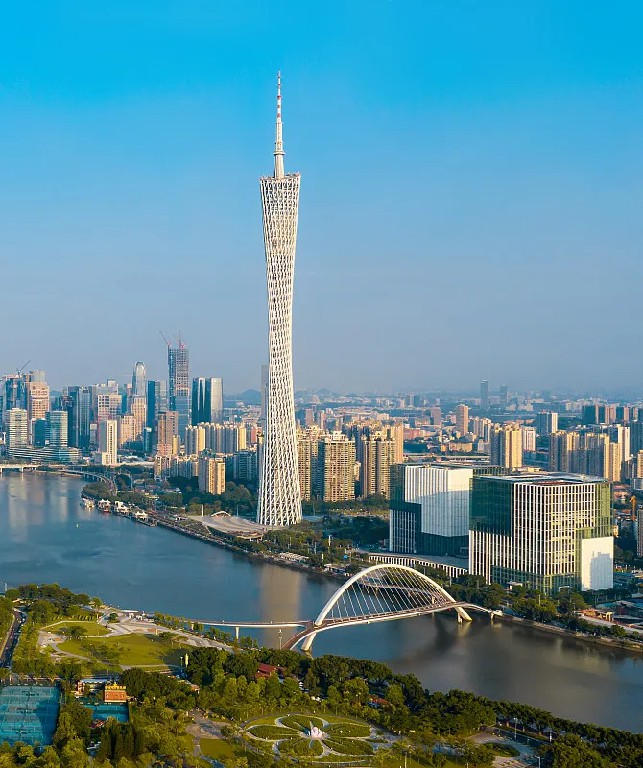Canton: (257, 68, 305, 528)
